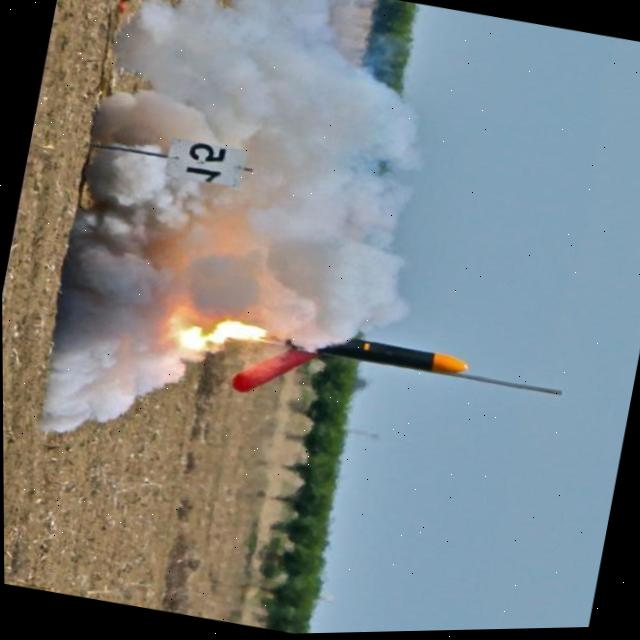missile: (238, 300, 474, 397)
